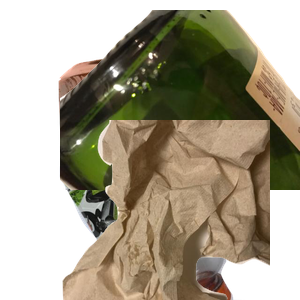glass: (60, 10, 300, 190)
metal: (56, 52, 242, 232)
plastic: (57, 120, 293, 300)
trash: (60, 120, 300, 300)
